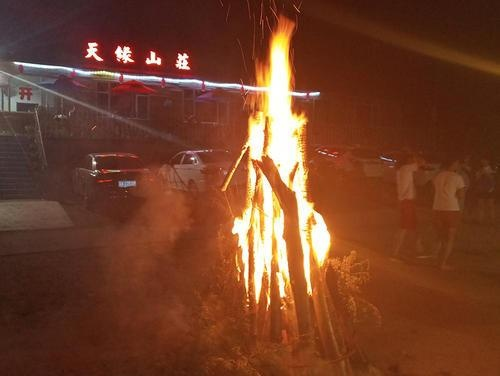fire: (230, 16, 333, 308)
